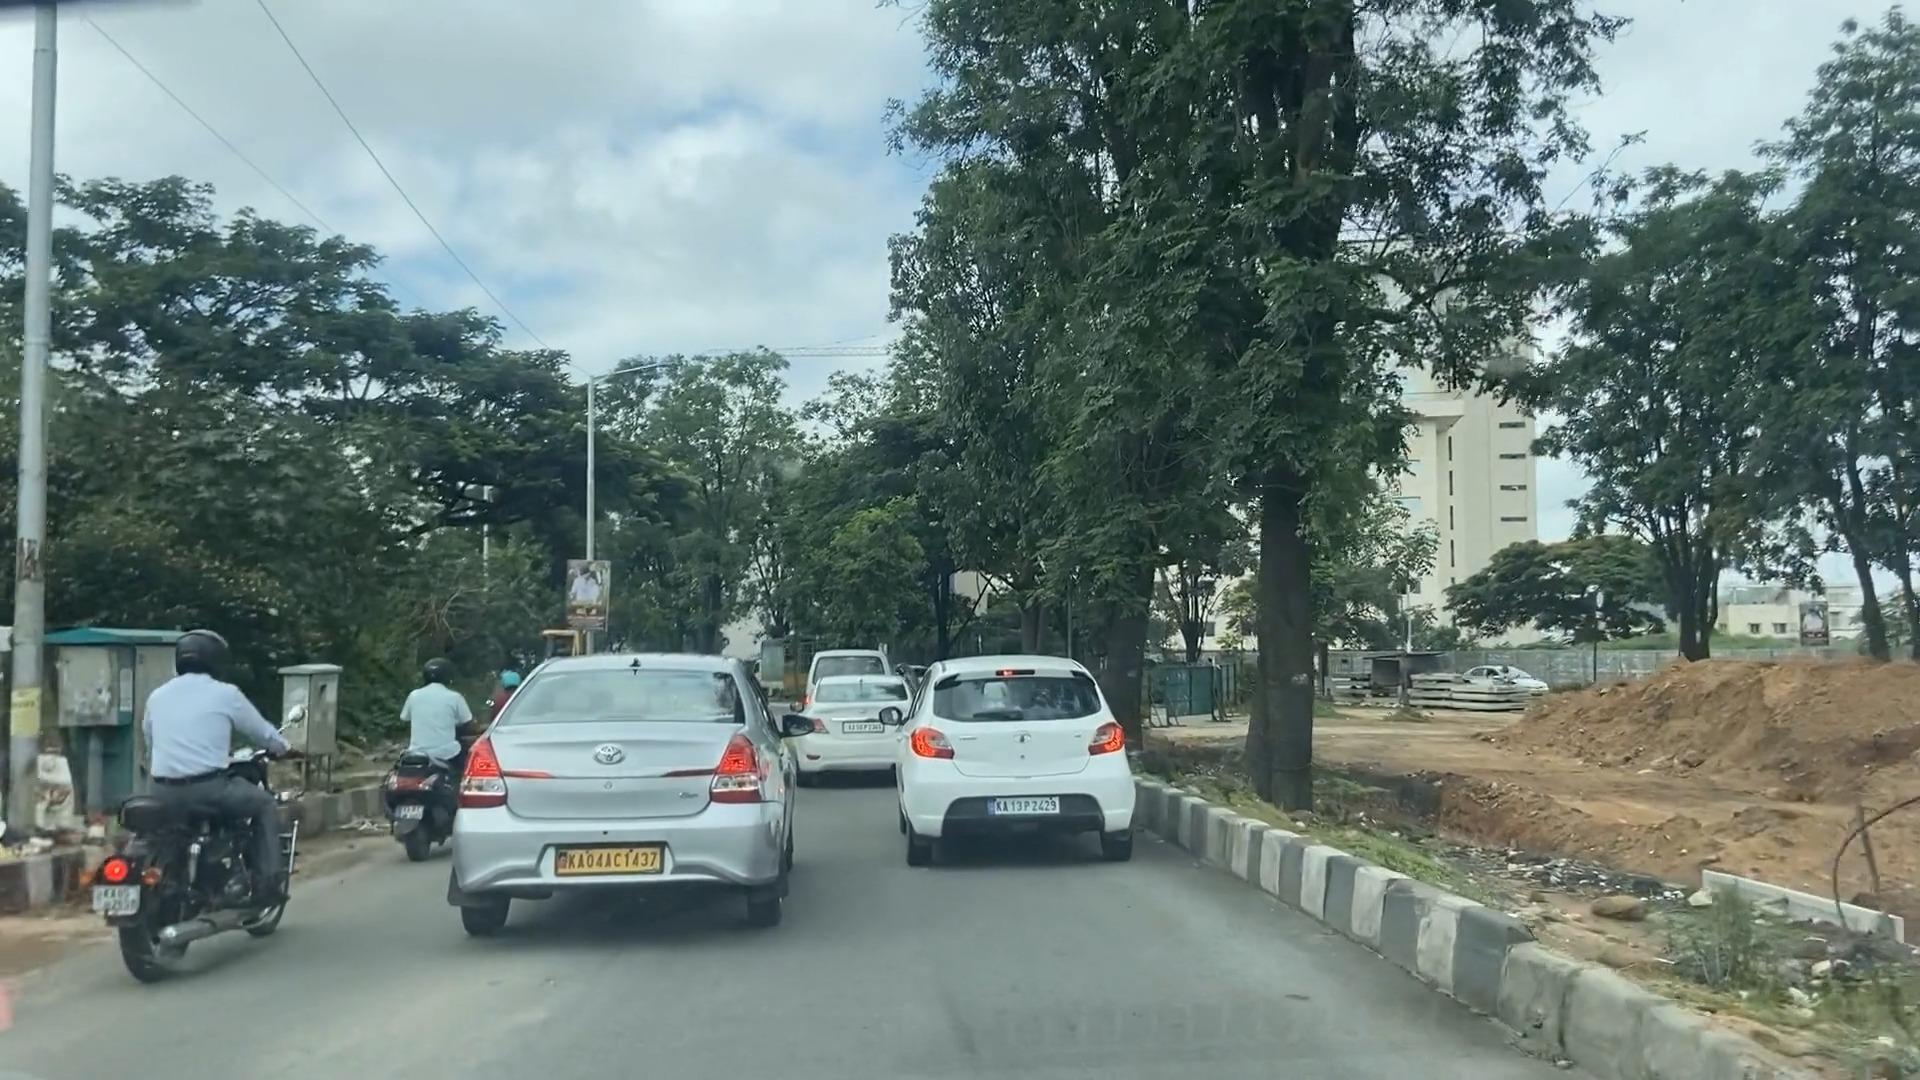LMV: (105, 646, 294, 948), (491, 692, 771, 893), (914, 670, 1124, 848), (388, 658, 462, 818)
